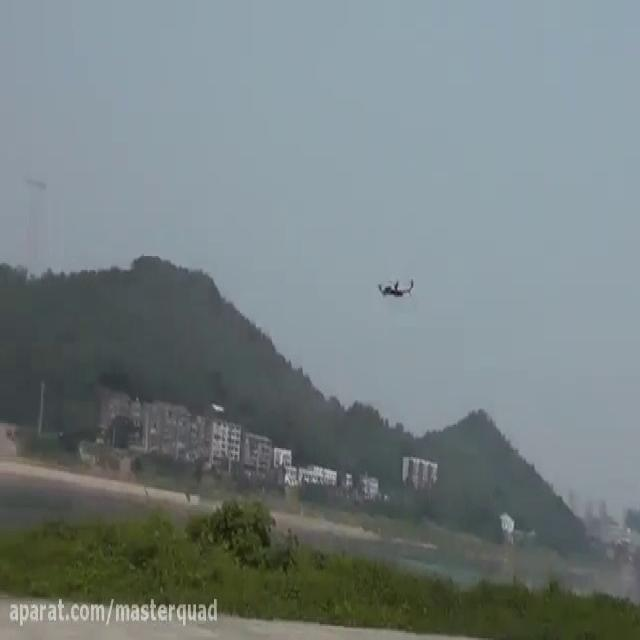drone: (373, 268, 417, 306)
